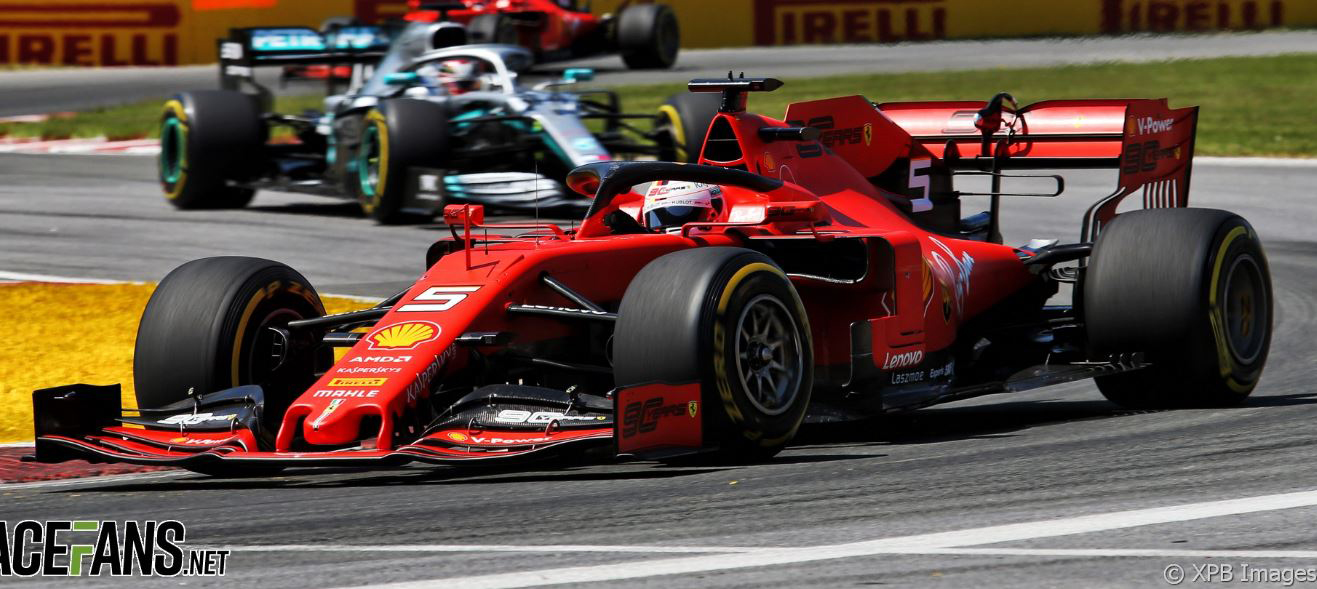F1 Car: (20, 62, 1286, 481)
